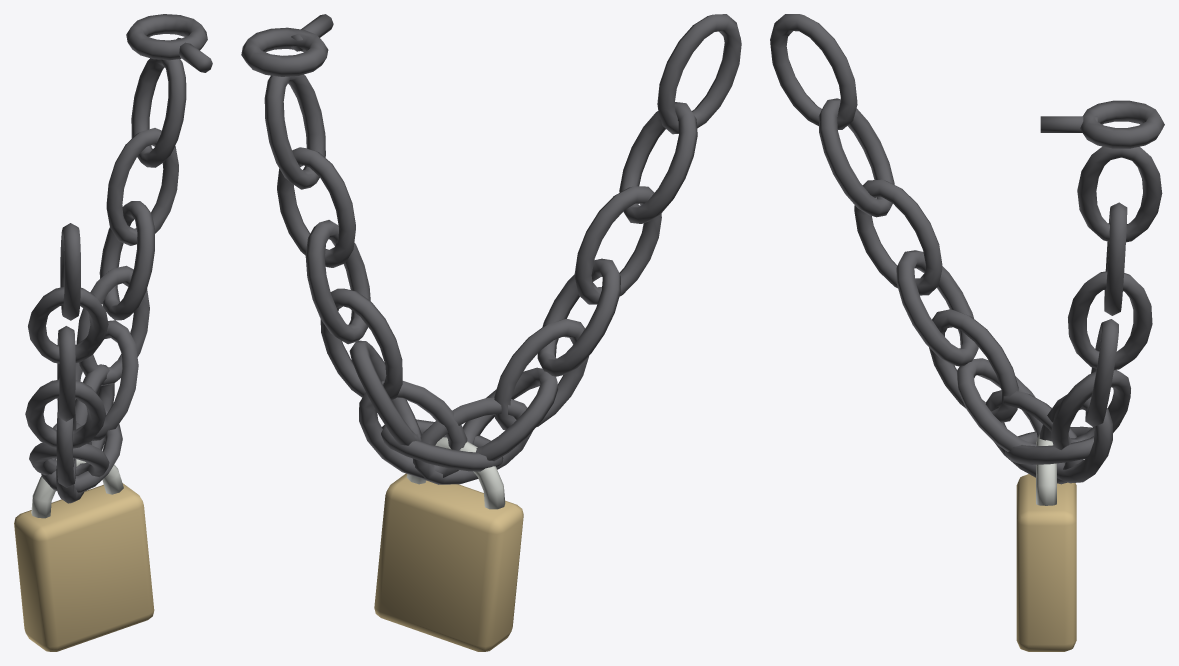
File: ss_door_chain.glb
3 views of the same model, side by side, from view 1: azimuth 30°, elevation 25°; view 2: azimuth 150°, elevation 25°; view 3: azimuth 270°, elevation 25° (orthographic). The views are drawn at different scales.
Visible parts, largest first — view 1: ss_door_chain; view 2: ss_door_chain; view 3: ss_door_chain.
Part boxes in pixels (bbox=[...]): ss_door_chain: bbox=[14, 14, 212, 651]; ss_door_chain: bbox=[241, 14, 741, 651]; ss_door_chain: bbox=[770, 14, 1164, 651].
Size of the model in its own units: 0.1216 by 0.2136 by 0.1318.
